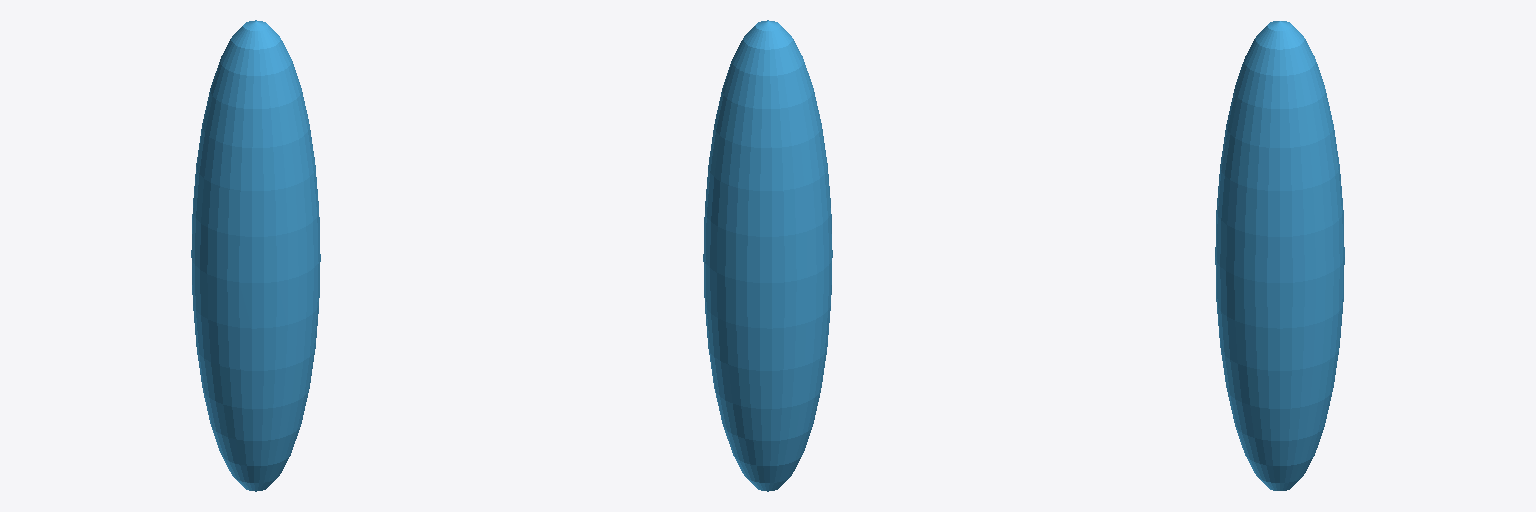
robot.urdf — vr_body:
<robot name="vr_body">
	<link name="head">
		<inertial>
			<origin xyz="0. 0. 0." rpy="0 0 0"/>
			<mass value="0.01" />
			<inertia ixx="0.001" ixy="0.0" ixz="0.0" iyy="0.001" iyz="0.0" izz="0.001" />
		</inertial>
	</link>
	<link name="body">
		<inertial>
			<origin xyz="0. 0. 0." rpy="0 0 0"/>
			<mass value="1" />
			<inertia ixx="0.001" ixy="0.0" ixz="0.0" iyy="0.001" iyz="0.0" izz="0.001" />
		</inertial>
		<visual name="vr_body_visual">
			<origin xyz="0. 0. 0." rpy="0 0 0"/>
			<geometry>
				<mesh filename="vr_body_vis.obj"/>
			</geometry>
		</visual>
		<collision>
			<origin xyz="0. 0. 0." rpy="0 0 0"/>
			<geometry>
				<cylinder length="0.8" radius="0.1"/>
			</geometry>
		</collision>
	</link>
	<joint name="head_body" type="fixed">
		<origin xyz="-0.15 0 -0.6" rpy="0 0 0"/>
		<parent link="head"/>
		<child link="body"/>
	</joint>
</robot>

--- Render facts (derived) ---
3 views of the same robot in one strip: view 1: azimuth 30°, elevation 25°; view 2: azimuth 150°, elevation 25°; view 3: azimuth 270°, elevation 25° (orthographic).
Model vr_body with 2 links and 1 joints (1 fixed), rooted at head, posed every joint at zero.
Visible links, largest first — view 1: body; view 2: body; view 3: body.
Boxes of the visible links, bbox=[...] form: body: bbox=[191, 20, 320, 491]; body: bbox=[703, 20, 832, 491]; body: bbox=[1215, 21, 1344, 490].
Bounding box of the posed robot: 0.2 × 0.2 × 0.8 m (x, y, z).
1 mesh visuals loaded from 1 distinct referenced files (1 OBJ).